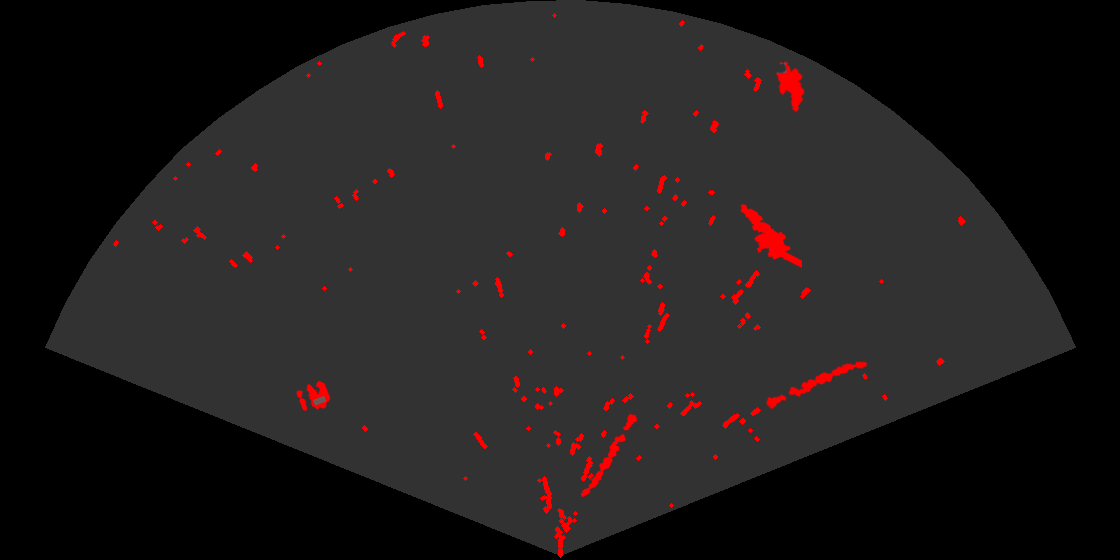AUV: (774, 59, 806, 114)
ball: (295, 379, 332, 413)
chain: (764, 360, 869, 411), (579, 412, 639, 499)
frogman: (739, 202, 802, 269)
